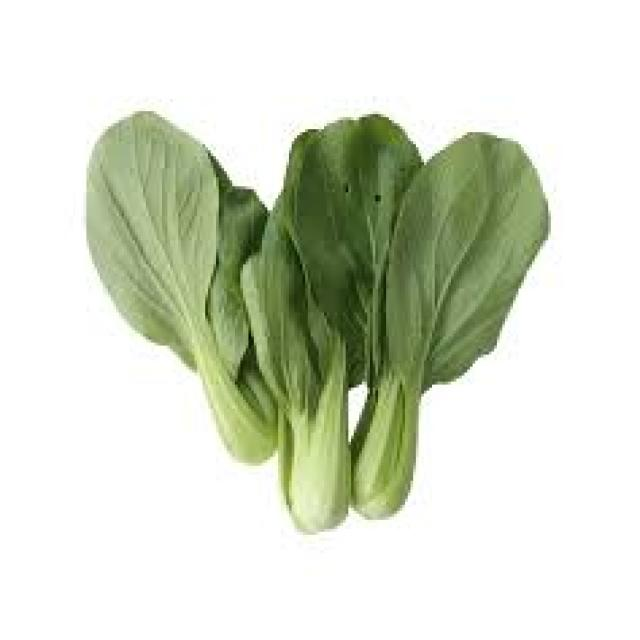bokchoy: (82, 106, 559, 530)
